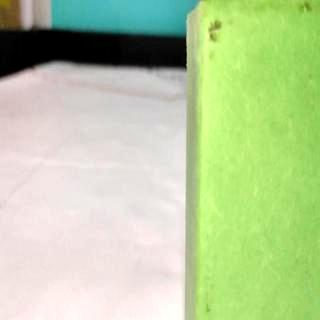greenbox: (182, 1, 320, 320)
